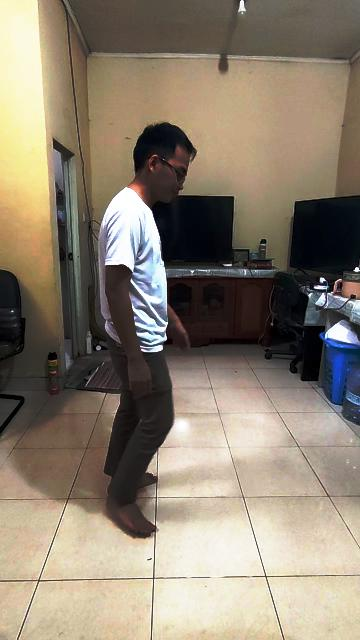berdiri: (86, 122, 192, 532)
